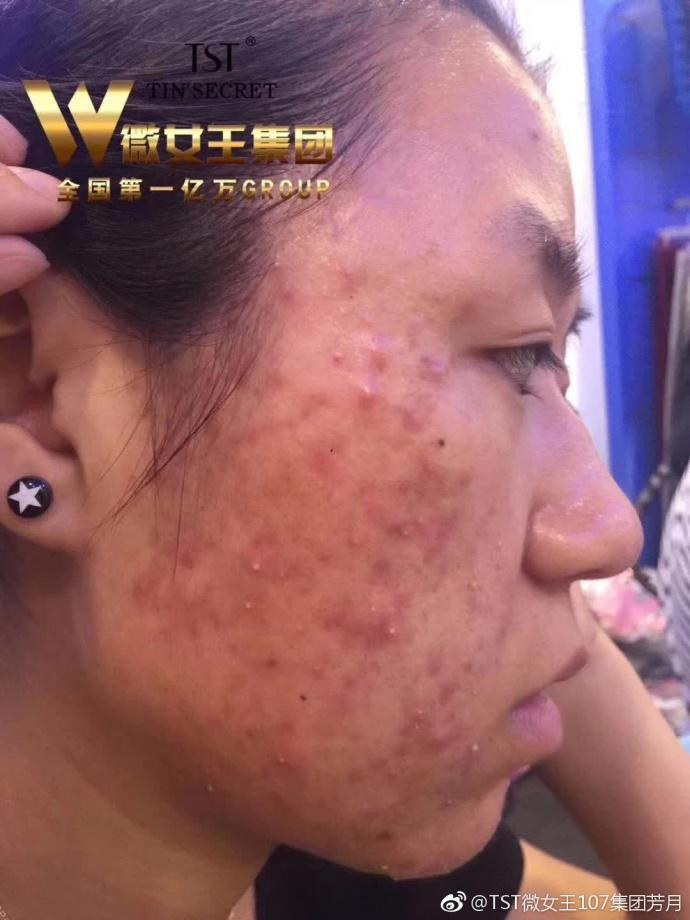fore: (365, 839, 418, 901), (288, 652, 355, 701), (325, 515, 378, 564), (172, 580, 206, 646), (312, 254, 384, 285), (198, 584, 247, 629), (108, 568, 163, 603), (208, 419, 263, 452), (190, 770, 231, 813), (310, 584, 345, 633), (161, 533, 219, 562), (298, 442, 345, 476), (347, 586, 390, 623), (425, 672, 467, 709), (255, 739, 294, 778), (333, 658, 374, 693), (344, 615, 385, 650), (416, 846, 460, 878), (296, 382, 333, 419), (262, 780, 300, 814), (429, 499, 459, 542), (333, 376, 372, 409), (461, 721, 488, 768), (365, 546, 396, 586), (282, 542, 318, 576), (251, 366, 294, 393), (383, 587, 414, 624), (351, 470, 384, 503), (341, 758, 374, 791), (317, 480, 352, 511), (354, 305, 384, 340), (394, 325, 430, 354), (328, 297, 361, 328), (416, 721, 451, 750), (418, 334, 441, 378), (189, 713, 226, 740), (457, 573, 488, 605), (341, 815, 373, 846), (241, 640, 274, 670), (271, 285, 309, 311), (267, 713, 302, 741), (227, 709, 259, 739), (414, 533, 447, 562), (410, 644, 449, 668), (359, 340, 394, 366), (376, 501, 406, 531), (324, 343, 360, 368), (245, 610, 278, 637), (388, 397, 425, 421), (263, 254, 295, 281), (285, 614, 311, 647), (376, 761, 408, 787), (434, 788, 465, 814), (367, 799, 394, 827), (470, 836, 493, 866), (229, 546, 259, 568), (380, 623, 404, 650), (488, 535, 513, 560), (179, 437, 202, 464), (414, 460, 441, 482), (386, 476, 420, 493), (408, 705, 427, 735), (488, 809, 513, 828), (247, 523, 286, 533), (441, 470, 471, 480)
